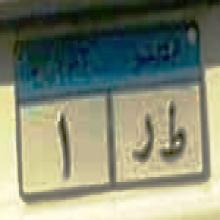1: (54, 109, 74, 180)
Taa: (157, 95, 187, 166)
raa: (130, 108, 154, 169)
